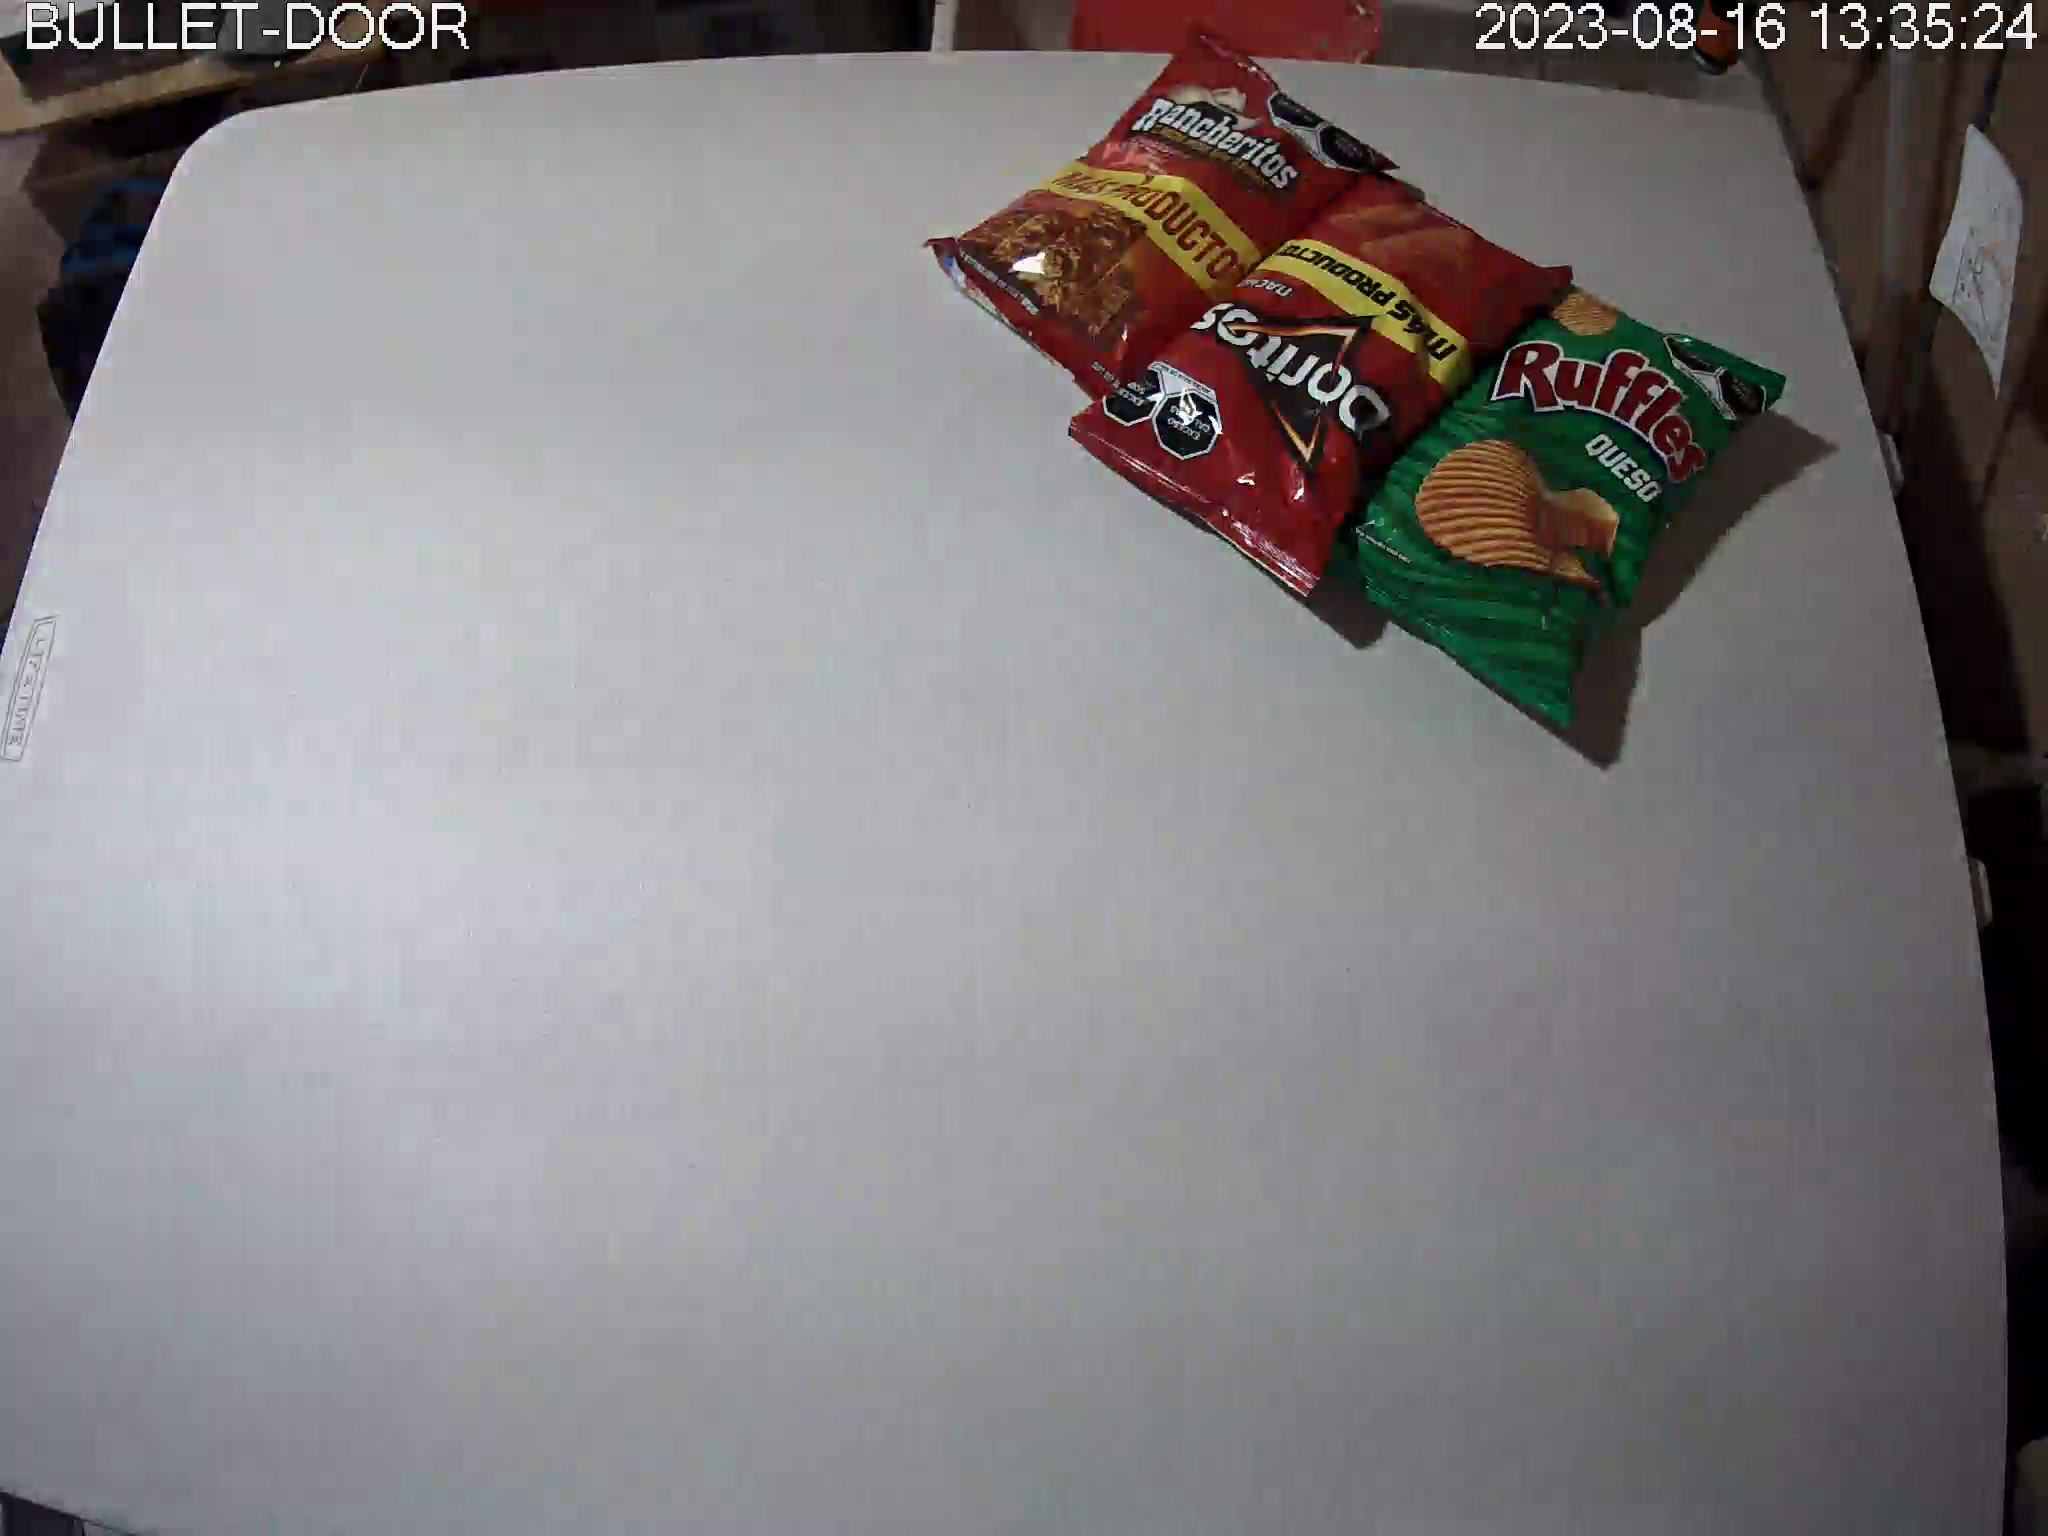DoritosN_61_F: (1071, 169, 1572, 600)
Rancheritos_58_F: (921, 19, 1406, 408)
RufflesQ_48_F: (1324, 281, 1792, 736)
